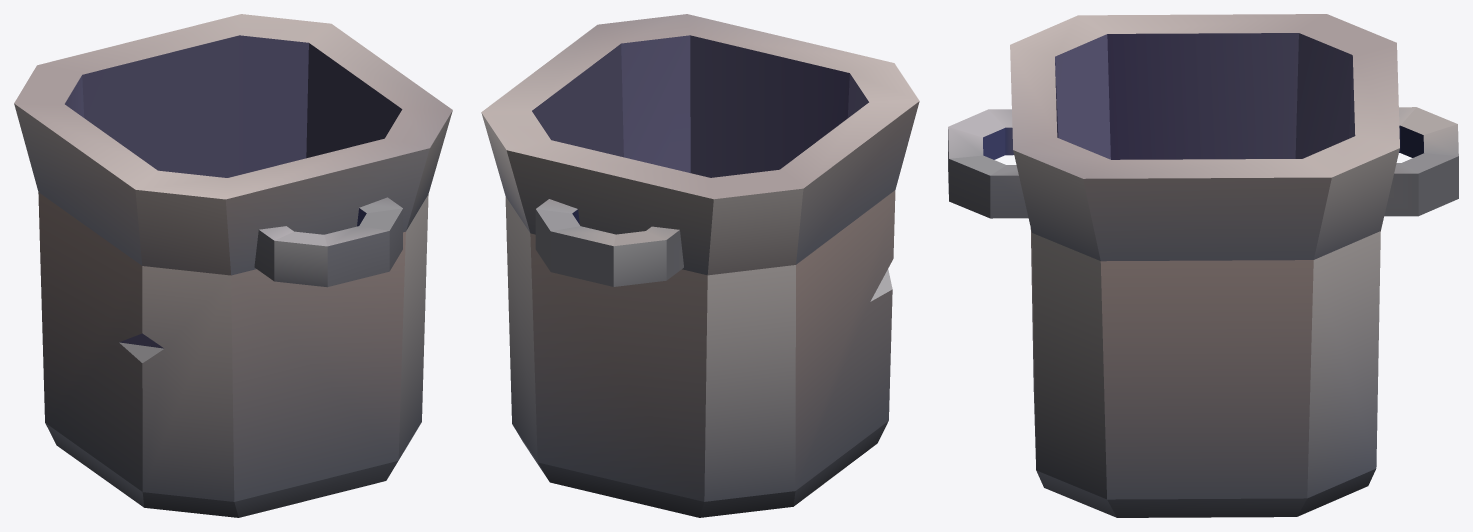
Rendered from mashine1_barrel_empty.fbx.
3 views of the same model, side by side, from view 1: azimuth 30°, elevation 25°; view 2: azimuth 150°, elevation 25°; view 3: azimuth 270°, elevation 25° (orthographic). The views are drawn at different scales.
Visible parts, largest first — view 1: Cube.103; view 2: Cube.103; view 3: Cube.103.
Boxes of the visible parts, x1,y1,x2,y2 form: Cube.103: (14,14,452,517); Cube.103: (481,14,919,517); Cube.103: (948,14,1458,517).
Size of the model in its own units: 22.28 by 22.22 by 29.17.
